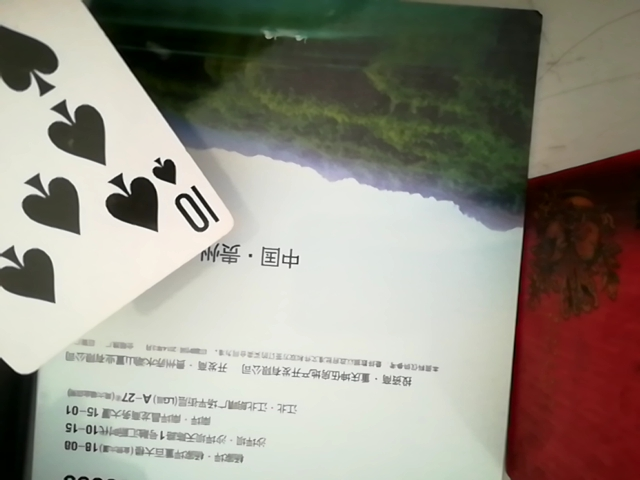ht 10: (0, 0, 231, 374)
